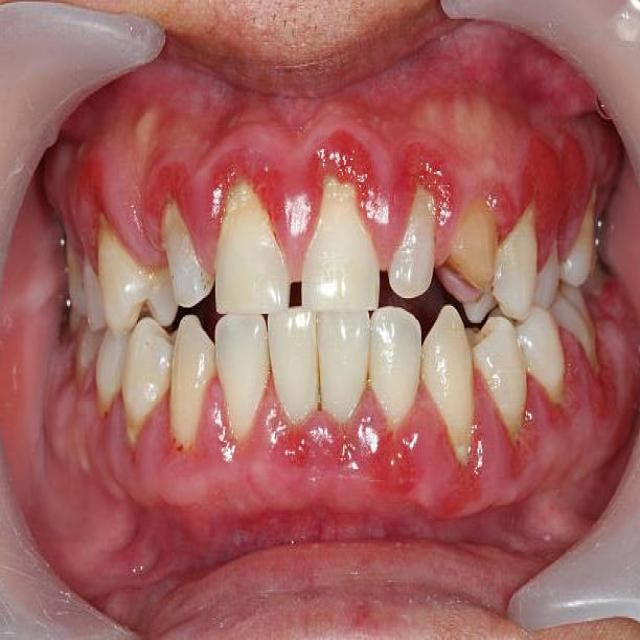Gingivitis: (145, 496, 538, 542), (520, 112, 591, 238), (207, 142, 291, 236), (305, 118, 394, 206), (400, 134, 470, 214), (271, 426, 347, 478), (361, 424, 422, 486), (136, 156, 197, 217), (497, 431, 546, 477), (583, 362, 622, 414), (488, 167, 513, 233)
